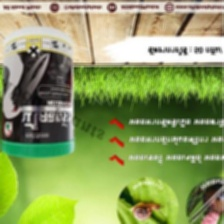insecticide: (0, 22, 78, 160)
